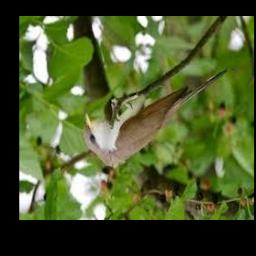Cuckoo: (85, 69, 228, 167)
